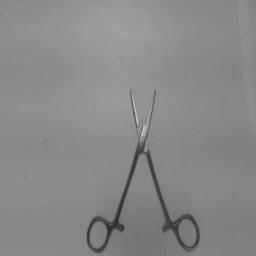Mayo Needle Holder: (84, 82, 204, 254)
